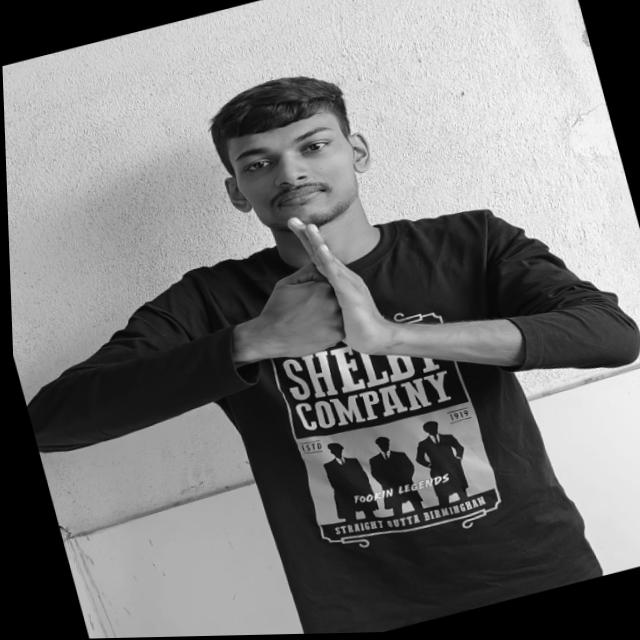Well Done: (238, 199, 393, 370)
